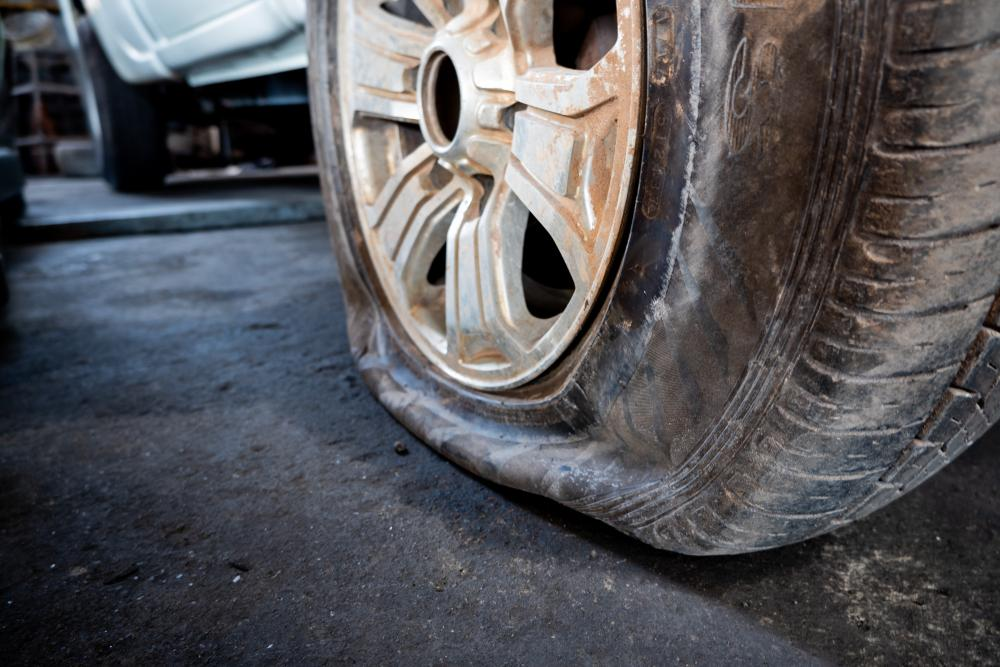tire flat: (309, 0, 1000, 556)
